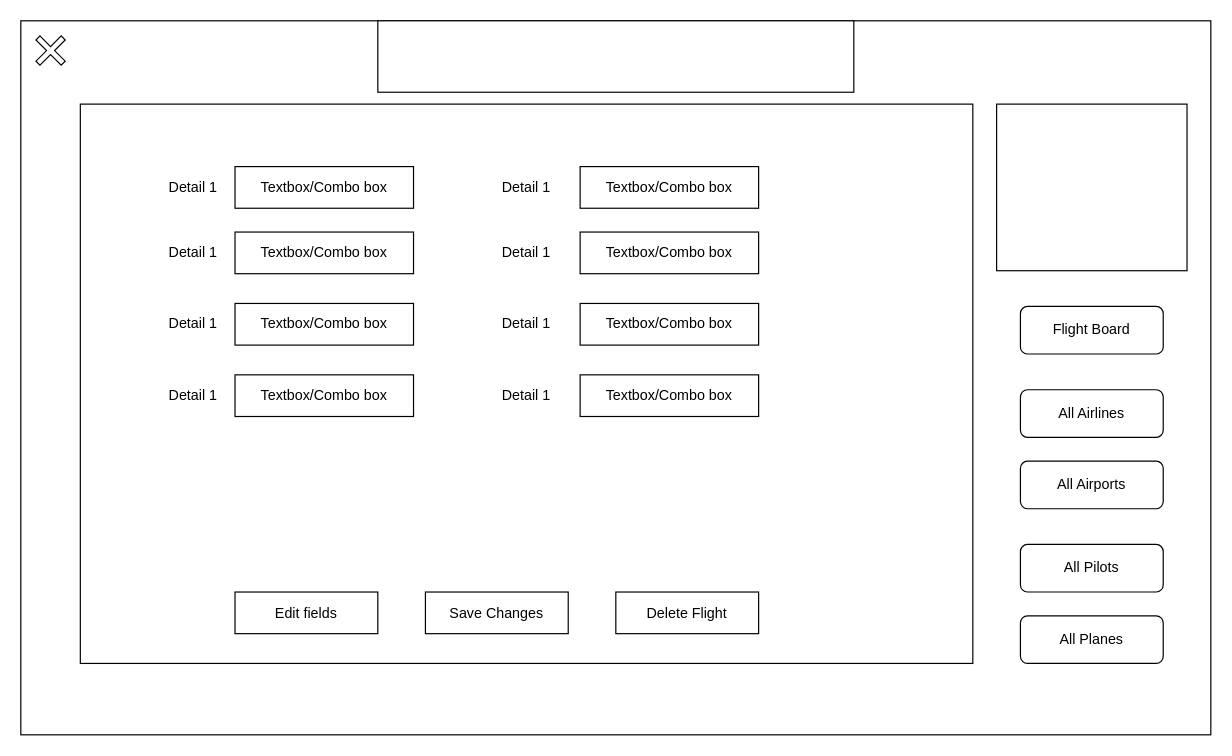
The diagram is 1232 pixels wide and 756 high, and some of its shapes have lost their labels. Here are the shapes that lost their labels. From the top down, the centre of each, then its label:
At point 615,56: "APP LOGO".
At point 1091,187: "GIF/ICON".
